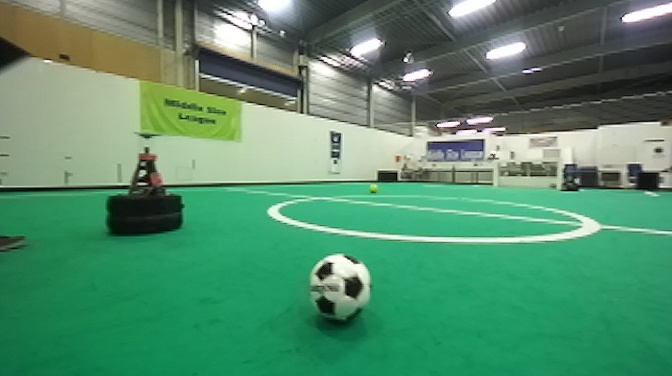ball: (304, 251, 375, 326), (367, 180, 380, 196)
goal: (492, 162, 562, 190)
goalpost: (556, 161, 562, 191), (493, 162, 499, 189)
robot: (103, 130, 188, 238)
